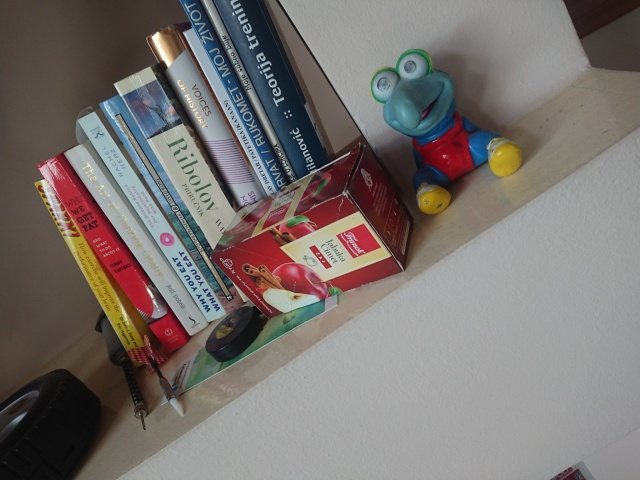Franck Apple Cinnamon Tea 60g: (207, 140, 416, 321)
